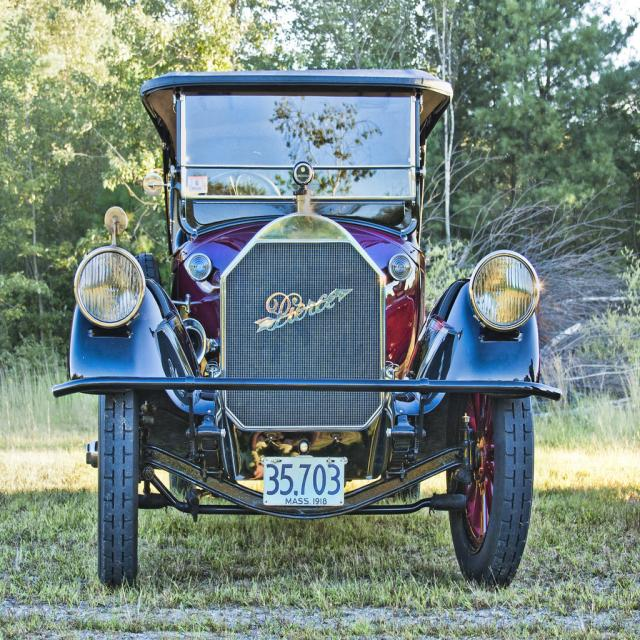car: (51, 65, 560, 590)
